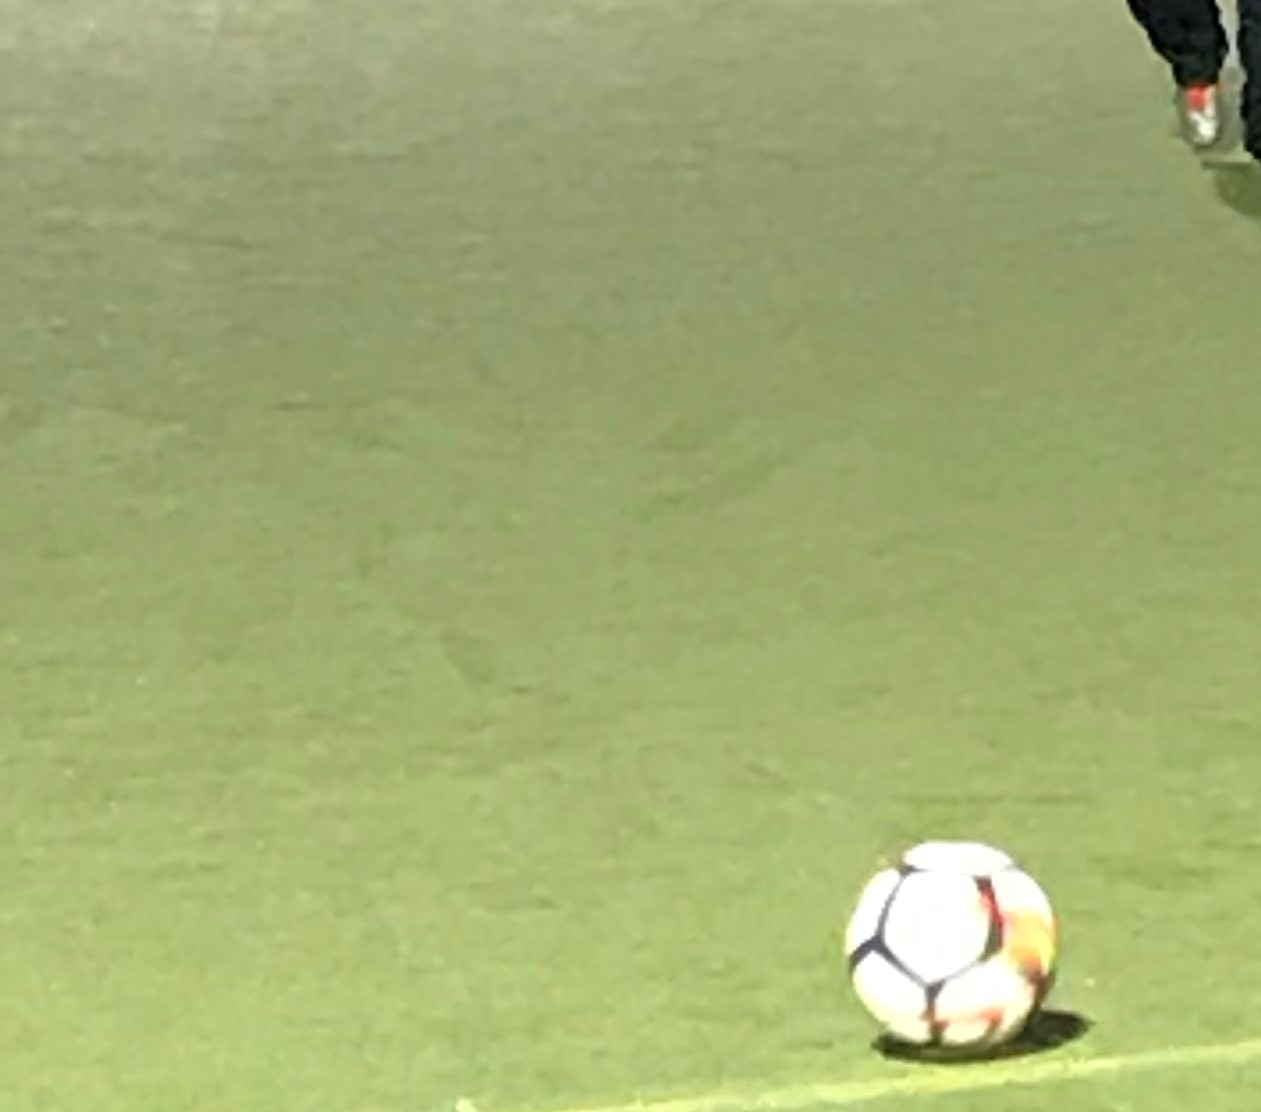football: (839, 833, 1055, 1059)
